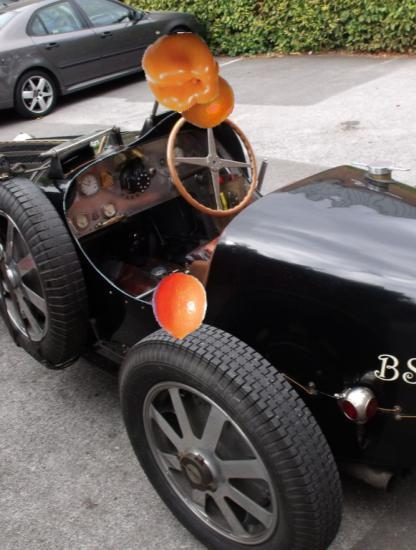Pepper: (140, 32, 222, 114)
Tangelo: (146, 273, 213, 340), (176, 70, 235, 129)
